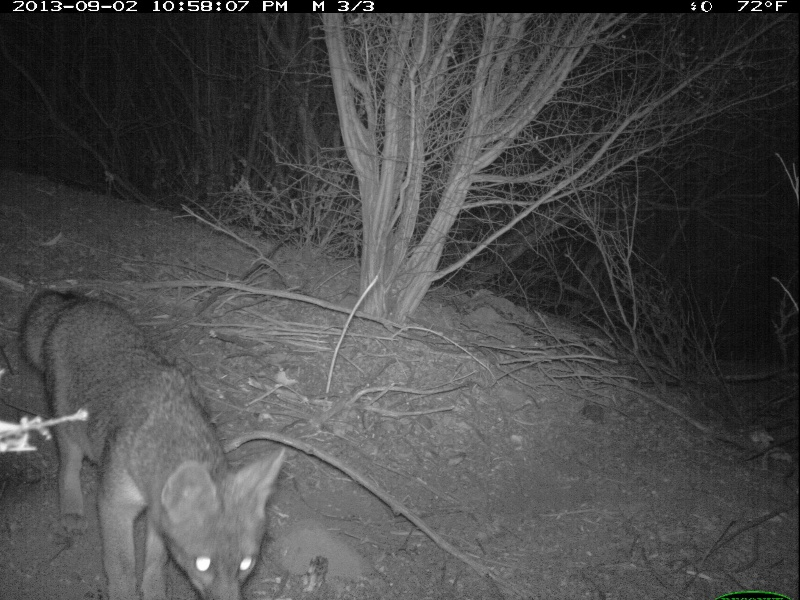fox: (18, 288, 288, 600)
